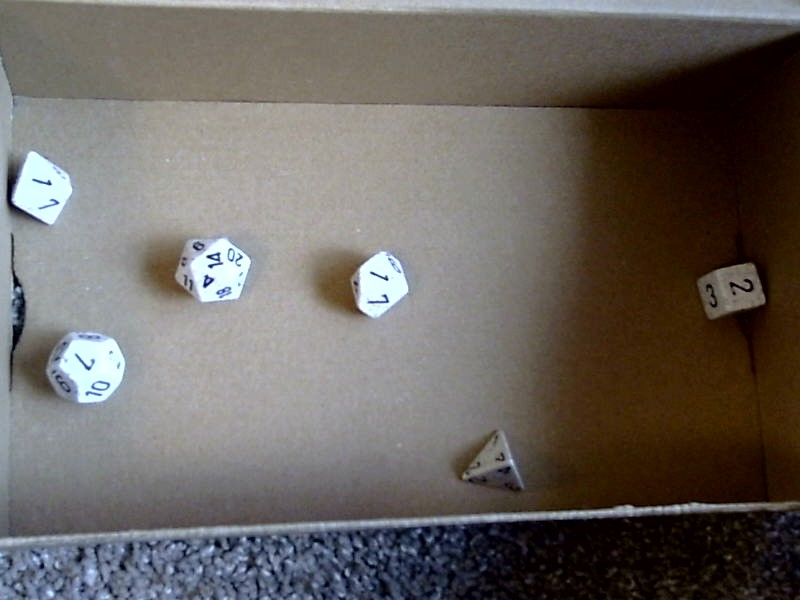d10 1: (340, 243, 413, 326)
d12 7: (37, 321, 134, 412)
d20 14: (166, 220, 254, 312)
d4 4: (452, 419, 532, 501)
d6 2: (686, 256, 773, 330)
d8 1: (3, 141, 77, 235)
